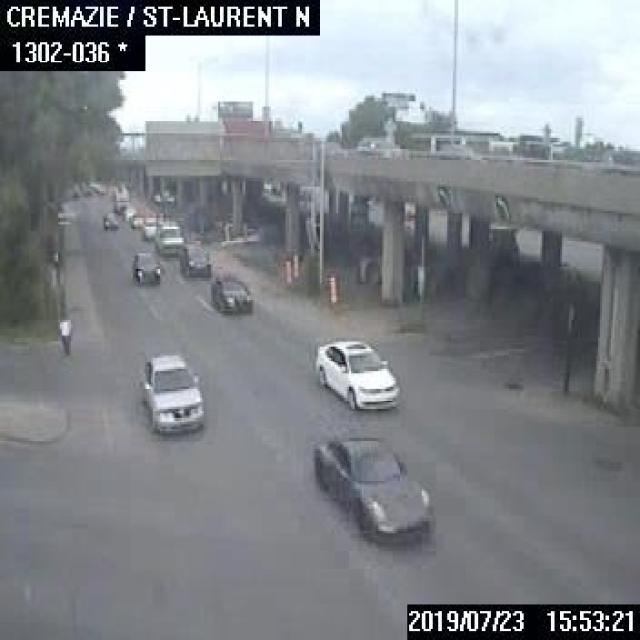construction: (282, 257, 292, 286), (290, 251, 300, 280), (327, 275, 337, 303)
pedestrian: (56, 307, 71, 353)
vehicle: (309, 427, 435, 540), (313, 333, 400, 407), (137, 349, 206, 433), (209, 276, 253, 314), (179, 235, 209, 273), (131, 247, 161, 284), (154, 222, 184, 256), (430, 142, 480, 160), (140, 214, 161, 238), (113, 185, 128, 212), (100, 210, 120, 228), (120, 201, 137, 218), (129, 210, 142, 228)
